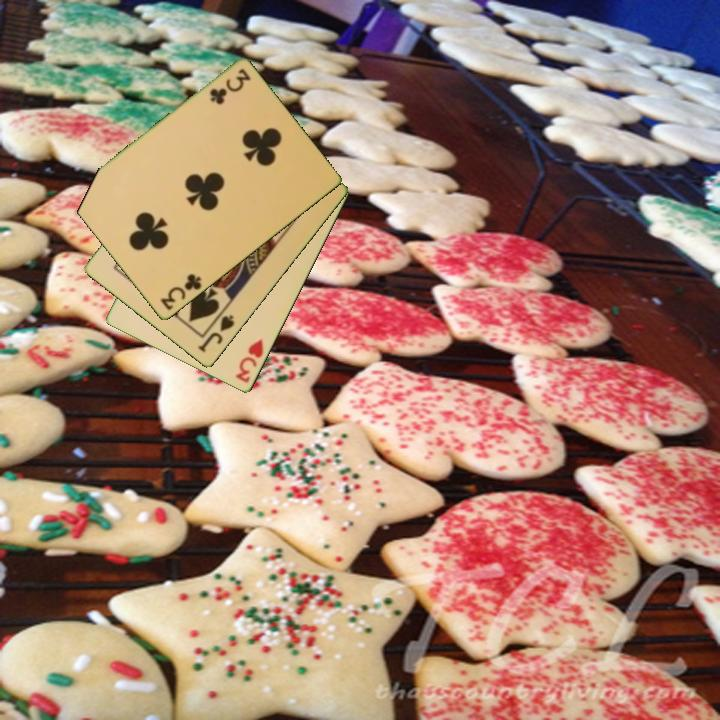3c: (156, 270, 204, 314), (206, 65, 253, 107)
3h: (232, 335, 266, 386)
Js: (194, 312, 237, 355)
